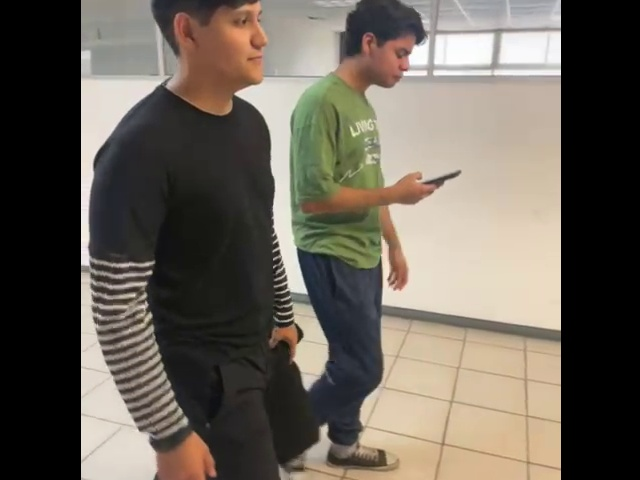mixto2: (410, 160, 464, 190)
